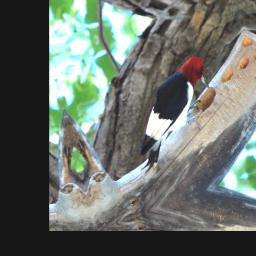Woodpecker: (118, 55, 227, 178)
